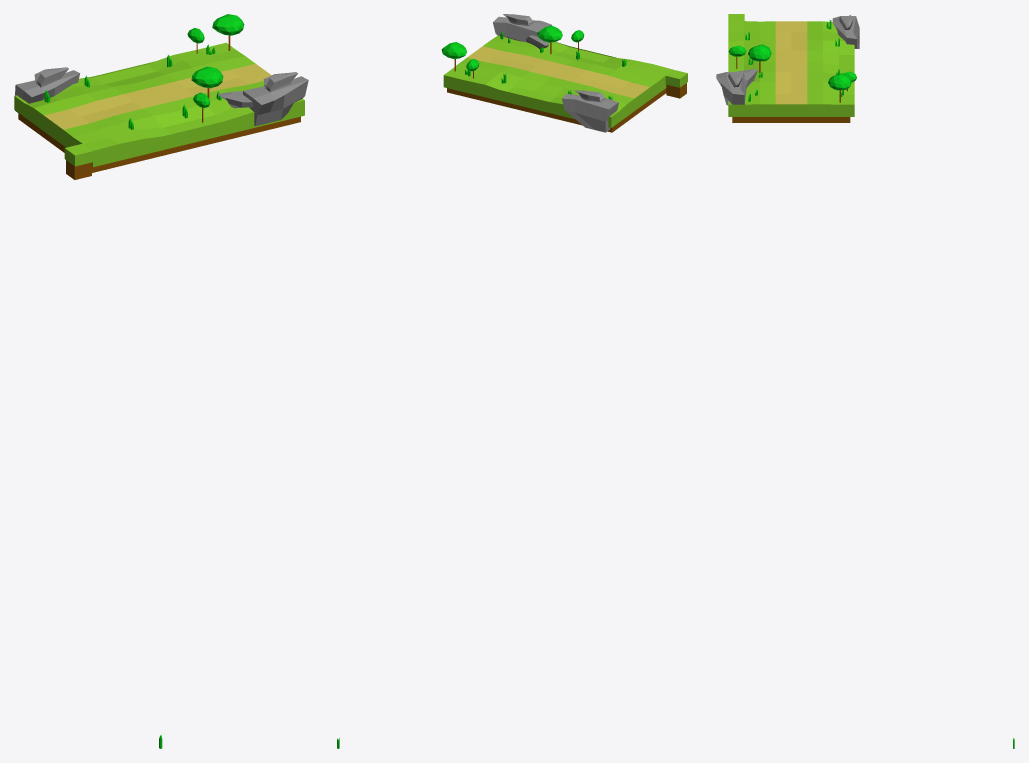
Rendered from firstLevel.fbx.
The picture shows the model from 3 angles, left to right: view 1: azimuth 30°, elevation 25°; view 2: azimuth 150°, elevation 25°; view 3: azimuth 270°, elevation 25°; orthographic projection. The views are drawn at different scales.
Parts seen in each view (by area): view 1: Cube.001, Cube.002, Cube, Cube.022, Icosphere.003, Icosphere, Cube.032; view 2: Cube.001, Cube.022, Cube, Cube.002; view 3: Cube.001, Cube, Cube.002, Cube.022.
Boxes of the visible parts, x1,y1,x2,y2 form: Cube.001: (14, 42, 304, 167); Cube.002: (243, 76, 308, 125); Cube: (18, 113, 300, 172); Cube.022: (15, 70, 79, 112); Icosphere.003: (212, 14, 244, 35); Icosphere: (191, 66, 223, 88); Cube.032: (64, 143, 92, 166); Cube.001: (443, 35, 673, 127); Cube.022: (562, 93, 618, 132); Cube: (447, 88, 666, 132); Cube.002: (493, 16, 551, 42); Cube.001: (728, 21, 854, 116); Cube: (732, 117, 850, 122); Cube.002: (716, 72, 746, 105); Cube.022: (832, 16, 859, 48).
Bounding box in the file's own units: 1024 × 3037 × 1246.
